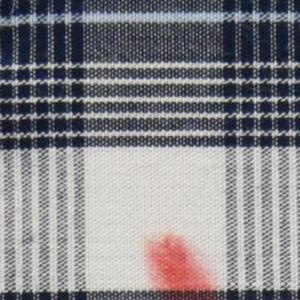Stain: (142, 230, 227, 300)
